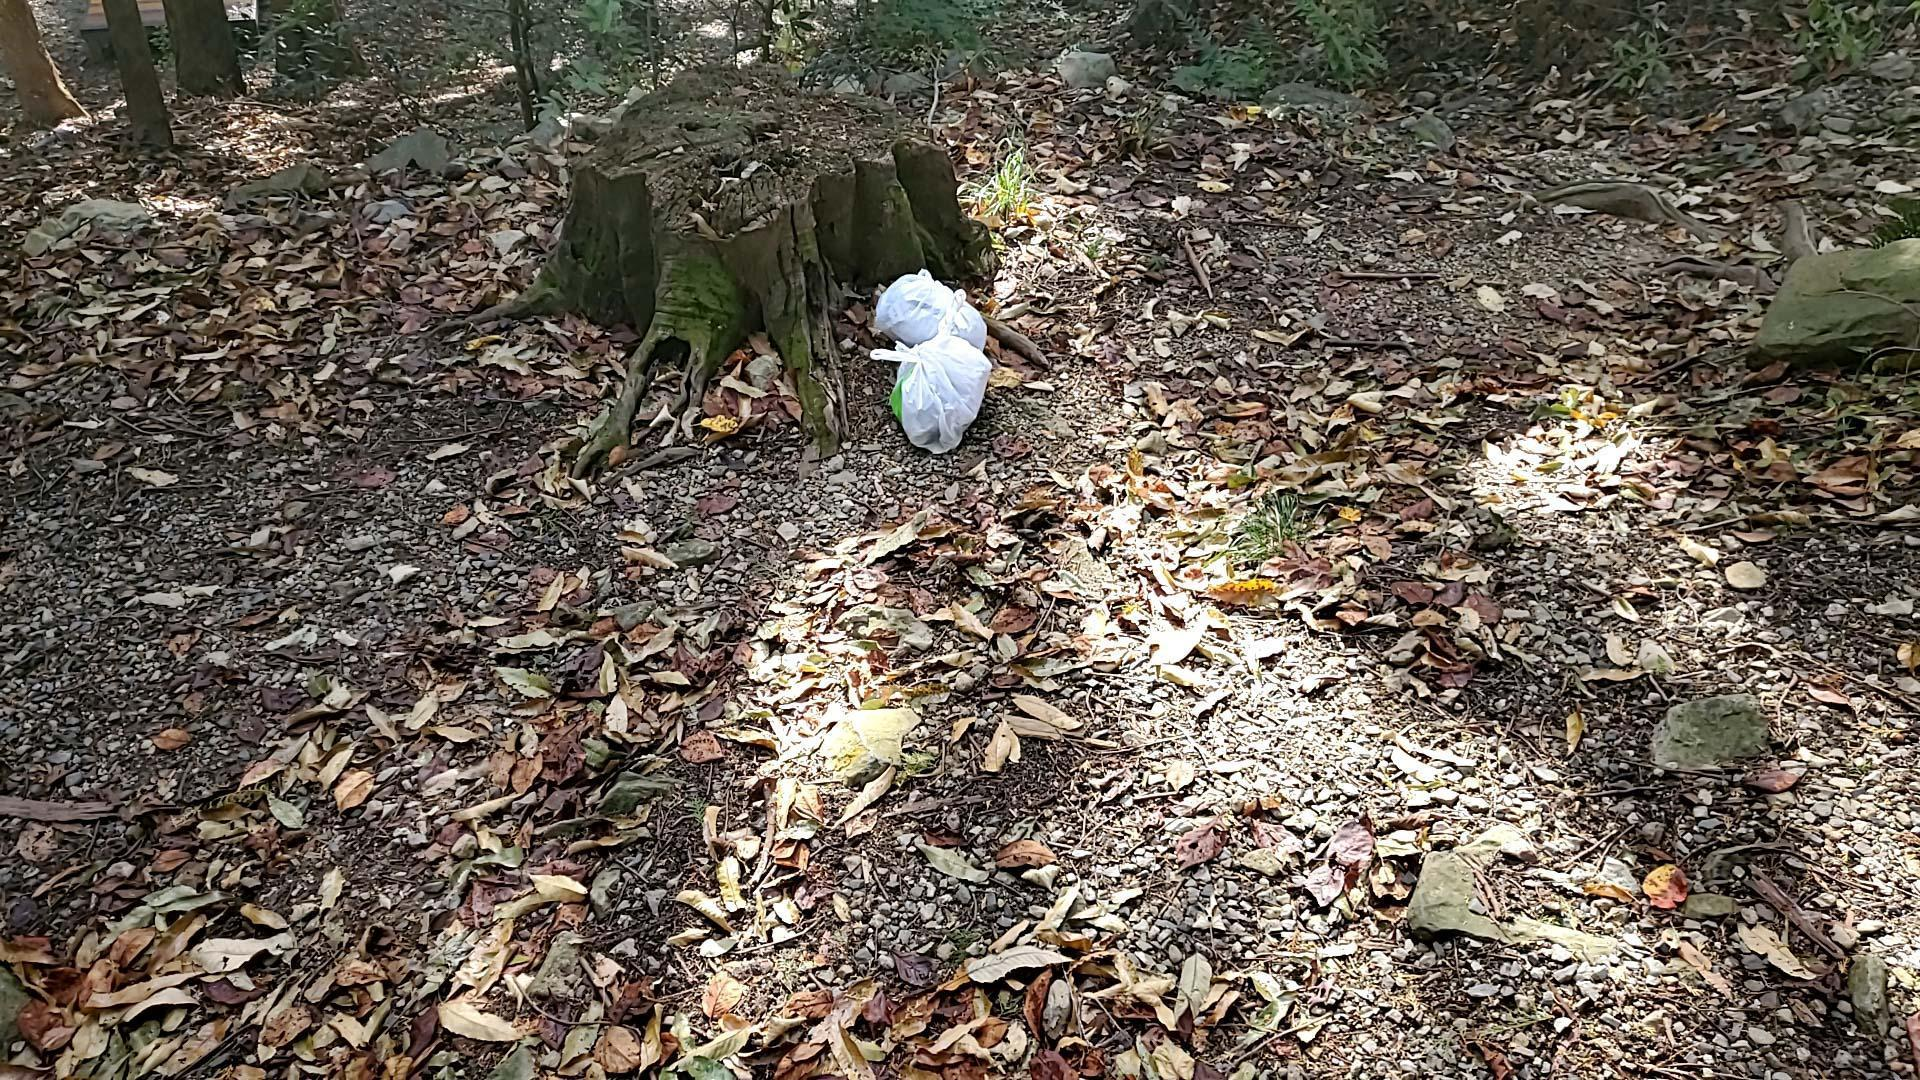white_bag: (860, 287, 992, 456), (873, 264, 988, 360)
